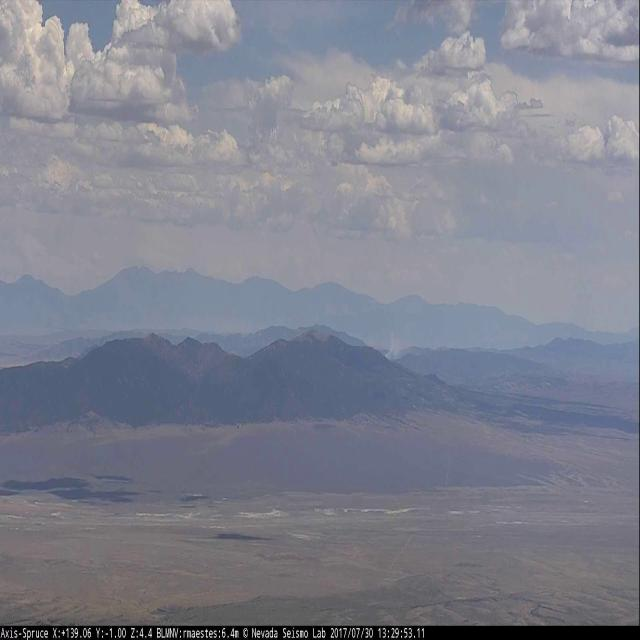smoke: (385, 326, 422, 360)
